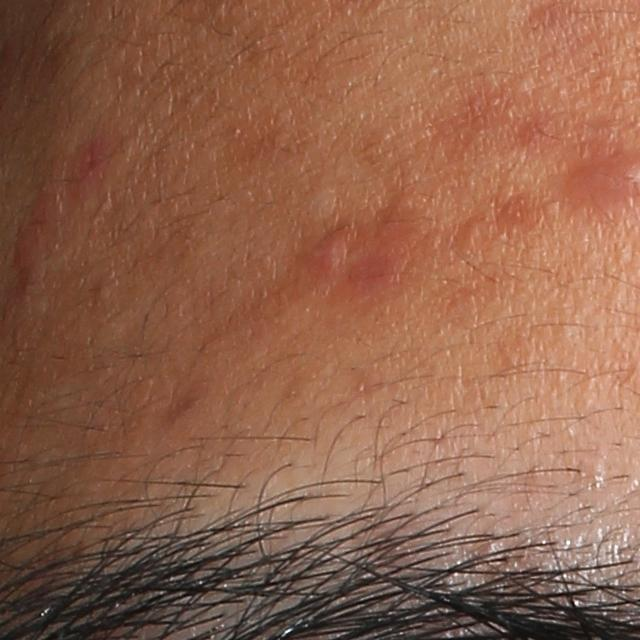comedo: (462, 219, 491, 250)
papule: (7, 222, 46, 278), (305, 231, 348, 278)
